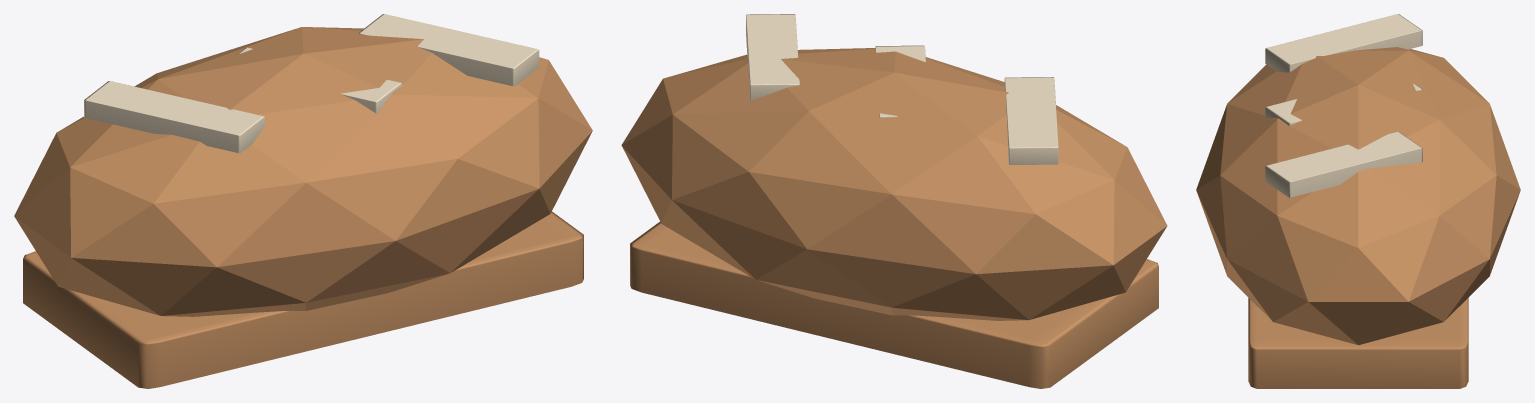
The model's file is bread.glb.
3 views of the same model, side by side, from view 1: azimuth 30°, elevation 25°; view 2: azimuth 150°, elevation 25°; view 3: azimuth 270°, elevation 25° (orthographic). The views are drawn at different scales.
Parts seen in each view (by area): view 1: rounded bread loaf, flat loaf base, cream bread score, cream bread score.002, cream bread score.001; view 2: rounded bread loaf, flat loaf base, cream bread score, cream bread score.002, cream bread score.001; view 3: rounded bread loaf, flat loaf base, cream bread score.002, cream bread score, cream bread score.001.
Part boxes in pixels (left/top/right/bottom): rounded bread loaf: left=14, top=27, right=592, bottom=316; flat loaf base: left=23, top=211, right=583, bottom=388; cream bread score: left=84, top=81, right=264, bottom=153; cream bread score.002: left=358, top=14, right=539, bottom=86; cream bread score.001: left=237, top=47, right=402, bottom=114; rounded bread loaf: left=621, top=48, right=1167, bottom=320; flat loaf base: left=630, top=221, right=1158, bottom=388; cream bread score: left=1004, top=77, right=1058, bottom=164; cream bread score.002: left=746, top=14, right=799, bottom=100; cream bread score.001: left=875, top=45, right=925, bottom=118; rounded bread loaf: left=1196, top=47, right=1520, bottom=345; flat loaf base: left=1248, top=298, right=1468, bottom=388; cream bread score.002: left=1265, top=131, right=1422, bottom=197; cream bread score: left=1265, top=14, right=1422, bottom=72; cream bread score.001: left=1265, top=83, right=1422, bottom=125.
Size of the model in its own units: 0.913 by 0.4 by 0.56.
